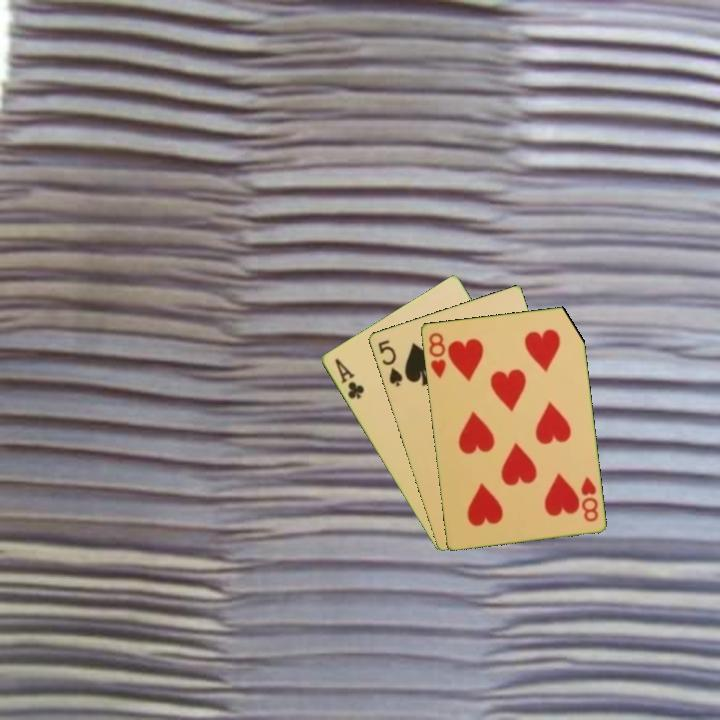5s: (374, 336, 405, 389)
8h: (425, 329, 449, 381), (577, 473, 601, 524)
Ac: (331, 355, 367, 402)
